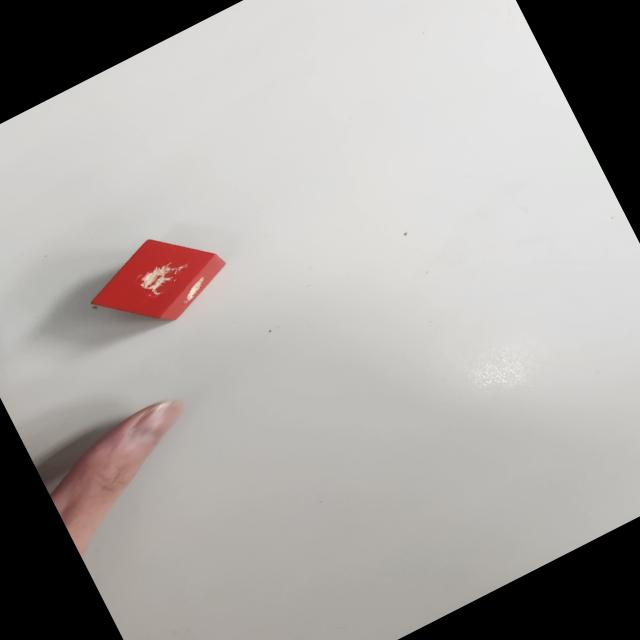broken: (76, 212, 240, 351)
